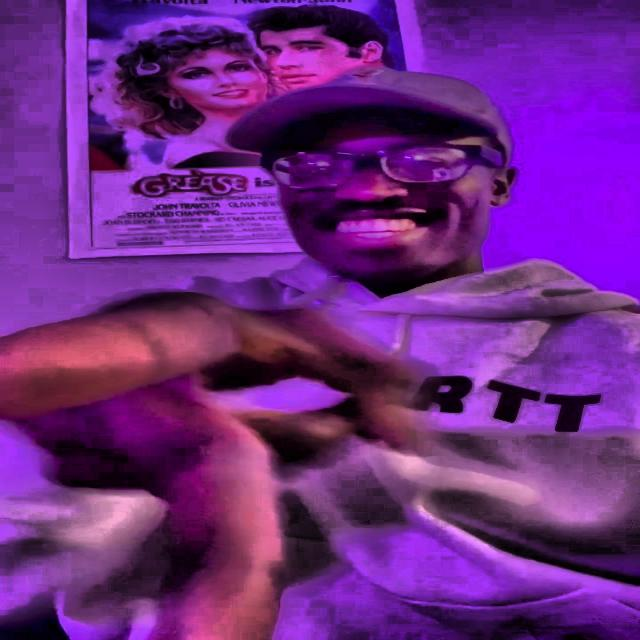not-gloved: (0, 290, 419, 640)
